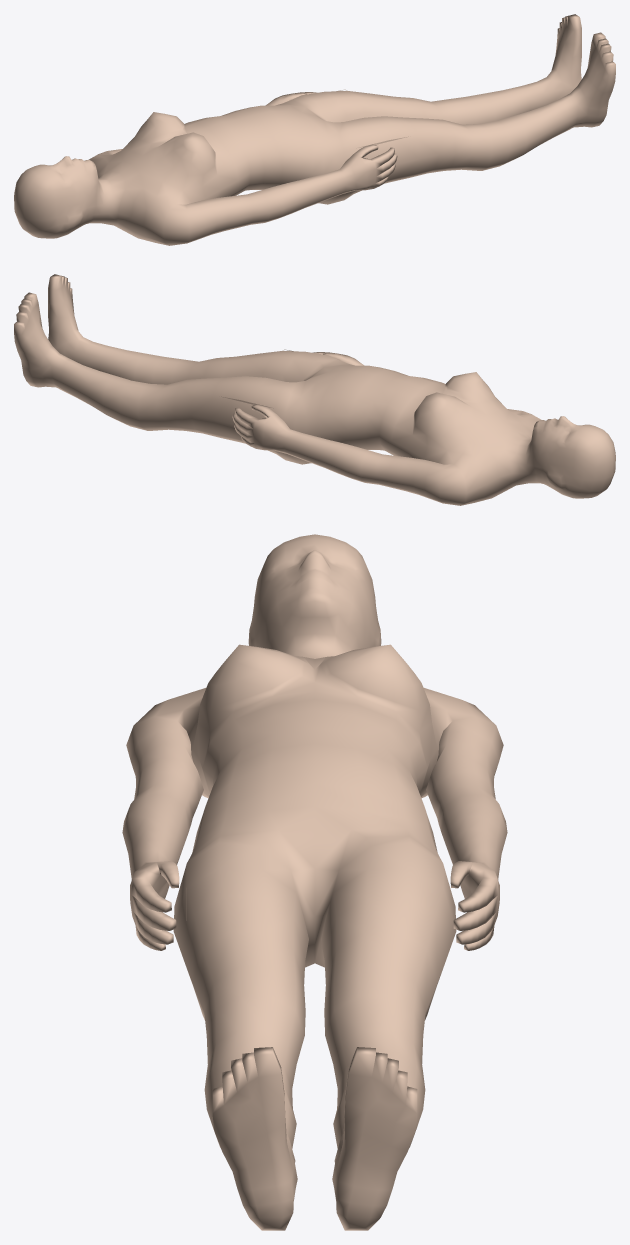
Rendered from Woman.fbx.
3 renders of one model, top to bottom at view 1: azimuth 30°, elevation 25°; view 2: azimuth 150°, elevation 25°; view 3: azimuth 270°, elevation 25°, orthographic. The views are drawn at different scales.
Parts seen in each view (by area): view 1: Woman_Reference; view 2: Woman_Reference; view 3: Woman_Reference.
Boxes of the visible parts, <box> form: Woman_Reference: <box>14,14,615,245</box>; Woman_Reference: <box>14,274,615,505</box>; Woman_Reference: <box>122,534,507,1230</box>.
Bounding box in the file's own units: 1.66 × 0.2795 × 0.4816.
